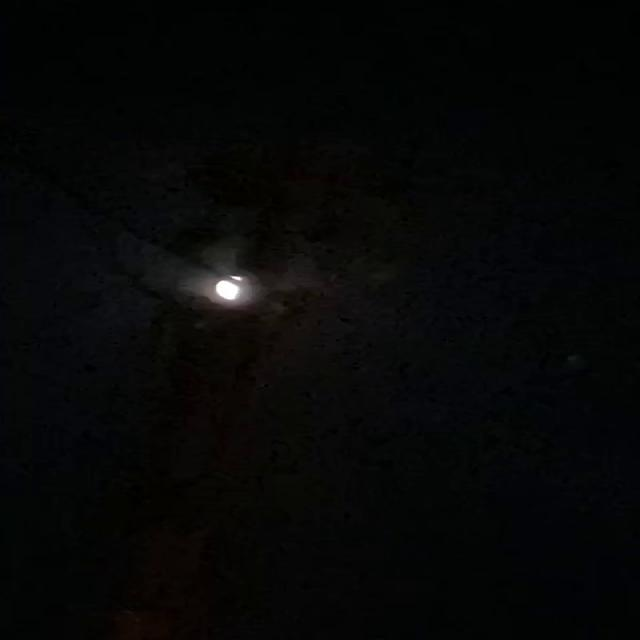moon: (177, 258, 296, 322)
